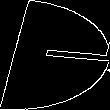L_W: (8, 36, 102, 74)
